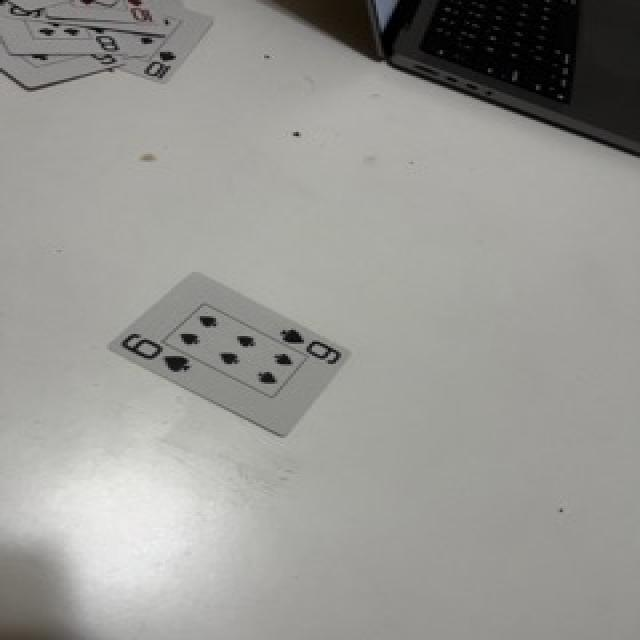6 of spades: (110, 272, 347, 435)
